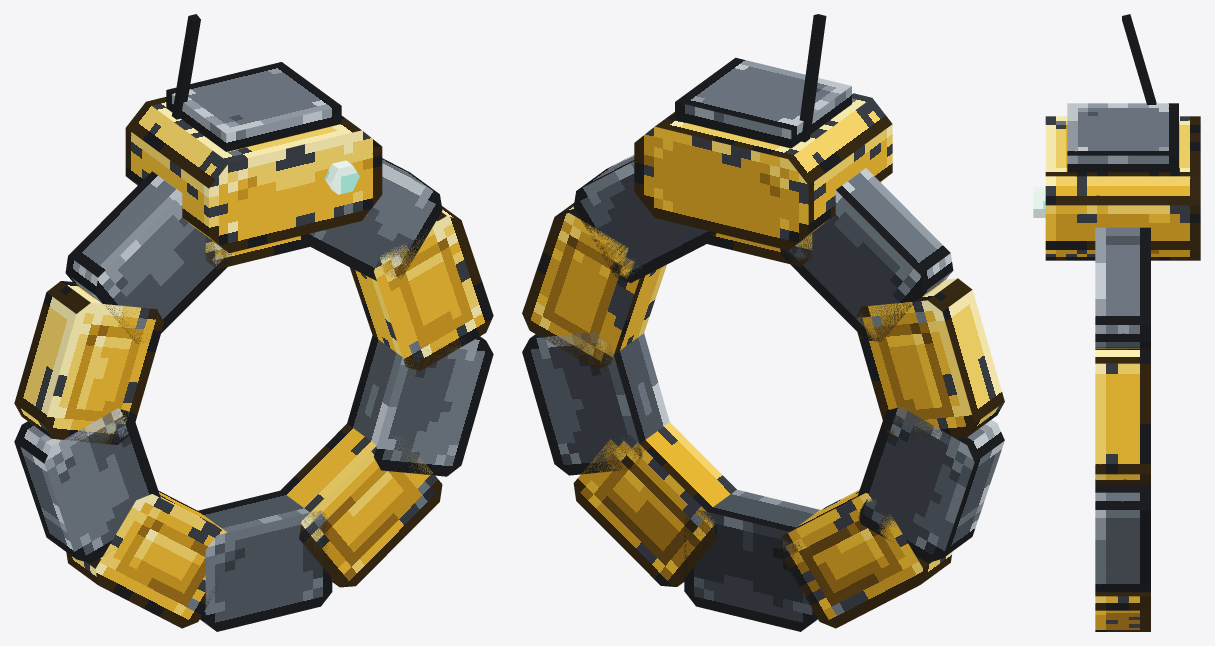
The model's file is cy_collar.glb.
3 views of the same model, side by side, from view 1: azimuth 30°, elevation 25°; view 2: azimuth 150°, elevation 25°; view 3: azimuth 270°, elevation 25° (orthographic). The views are drawn at different scales.
Parts seen in each view (by area): view 1: module, seg8, seg4, seg9, seg3, seg7, seg5, seg2, seg6, vent, seg1, seg0 (+2 smaller); view 2: module, seg8, seg4, seg9, seg3, seg7, seg2, seg5, seg6, vent, seg1, aerial (+1 smaller); view 3: module, vent, seg2, seg1, seg3, seg4, aerial, lamp.
Part boxes in pixels (x1,y1,x2,y2): module: [125, 97, 382, 253]; seg8: [14, 281, 164, 444]; seg4: [280, 424, 442, 587]; seg9: [65, 171, 233, 343]; seg3: [347, 335, 493, 476]; seg7: [14, 408, 160, 563]; seg5: [198, 490, 332, 631]; seg2: [350, 206, 493, 370]; seg6: [66, 490, 227, 628]; vent: [166, 62, 341, 151]; seg1: [300, 158, 442, 280]; seg0: [205, 236, 309, 269]; module: [634, 93, 892, 250]; seg8: [855, 278, 1004, 440]; seg4: [573, 422, 736, 586]; seg9: [780, 168, 953, 341]; seg3: [522, 332, 669, 475]; seg7: [857, 407, 1004, 562]; seg2: [522, 203, 666, 368]; seg5: [684, 489, 819, 631]; seg6: [779, 489, 952, 628]; vent: [675, 57, 851, 148]; seg1: [573, 155, 716, 282]; aerial: [799, 14, 826, 142]; module: [1045, 116, 1200, 260]; vent: [1067, 103, 1178, 172]; seg2: [1095, 348, 1150, 485]; seg1: [1095, 227, 1150, 348]; seg3: [1095, 485, 1150, 592]; seg4: [1095, 592, 1150, 631]; aerial: [1122, 14, 1156, 104]; lamp: [1033, 187, 1045, 217].
Size of the model in its own units: 15.57 by 20.02 by 5.4.
Materials: 1 (1 with a texture image).
